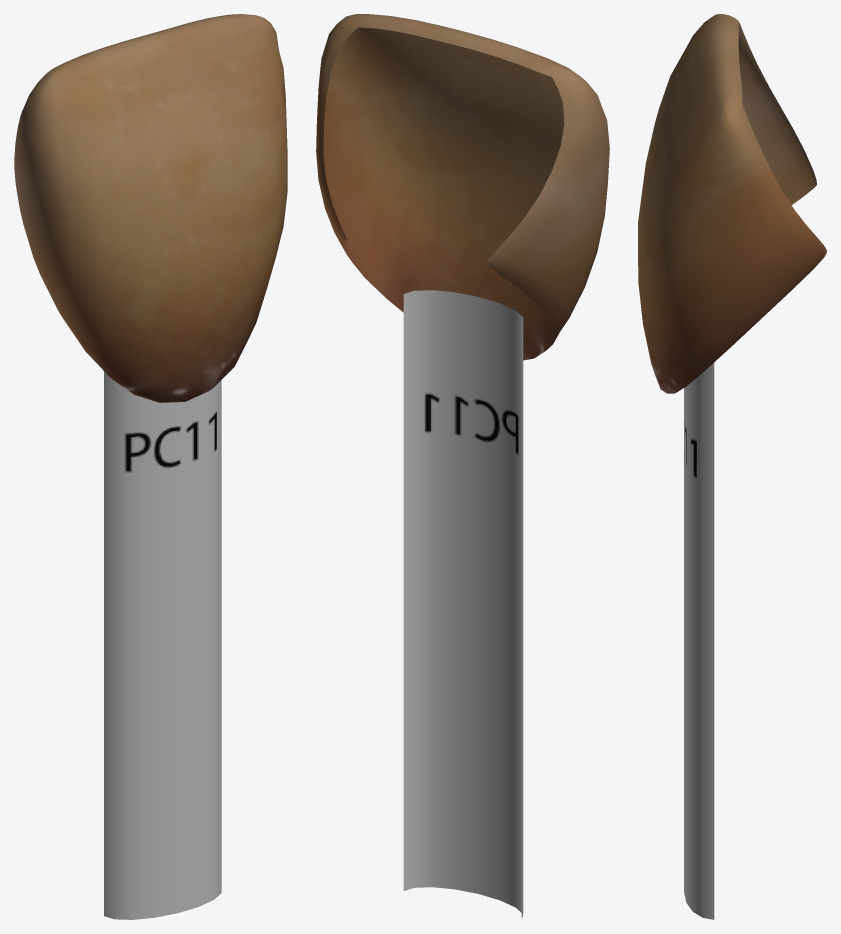
The picture shows the model from 3 angles, left to right: view 1: azimuth 30°, elevation 25°; view 2: azimuth 150°, elevation 25°; view 3: azimuth 270°, elevation 25°; orthographic projection. The views are drawn at different scales.
Parts seen in each view (by area): view 1: Tab; view 2: Tab; view 3: Tab.
Part boxes in pixels (x1,y1,x2,y2): Tab: (14,14,287,919); Tab: (316,14,609,919); Tab: (638,14,826,919).
Size of the model in its own units: 0.00866 by 0.0274 by 0.00556.
Materials: 1 (1 with a texture image).
